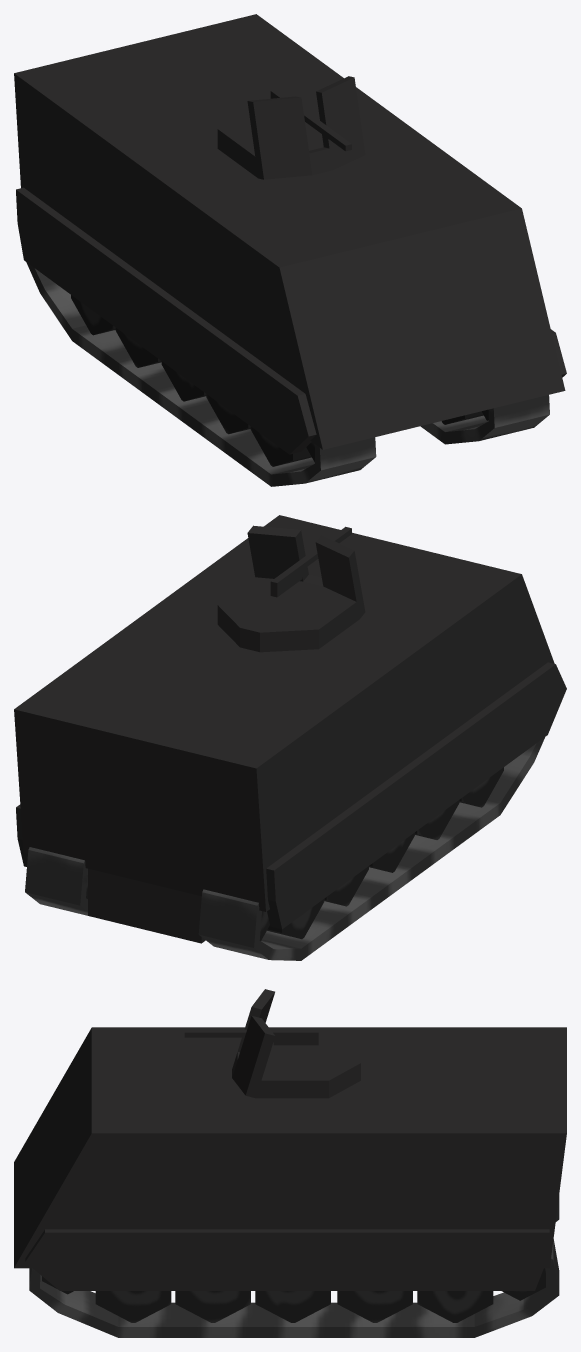
The picture shows the model from 3 angles, top to bottom: view 1: azimuth 30°, elevation 25°; view 2: azimuth 150°, elevation 25°; view 3: azimuth 270°, elevation 25°; orthographic projection. The views are drawn at different scales.
Parts seen in each view (by area): view 1: body, chain, gun_tower; view 2: body, chain, gun_tower; view 3: body, chain, gun_tower.
Boxes of the visible parts, x1,y1,x2,y2 form: body: (14,14,566,454); chain: (26,262,549,486); gun_tower: (217,76,365,179); body: (14,515,566,943); chain: (25,737,544,960); gun_tower: (217,525,365,652); body: (14,1027,566,1290); chain: (29,1195,559,1337); gun_tower: (184,989,360,1098).
Size of the model in its own units: 522 by 597 by 1082.
